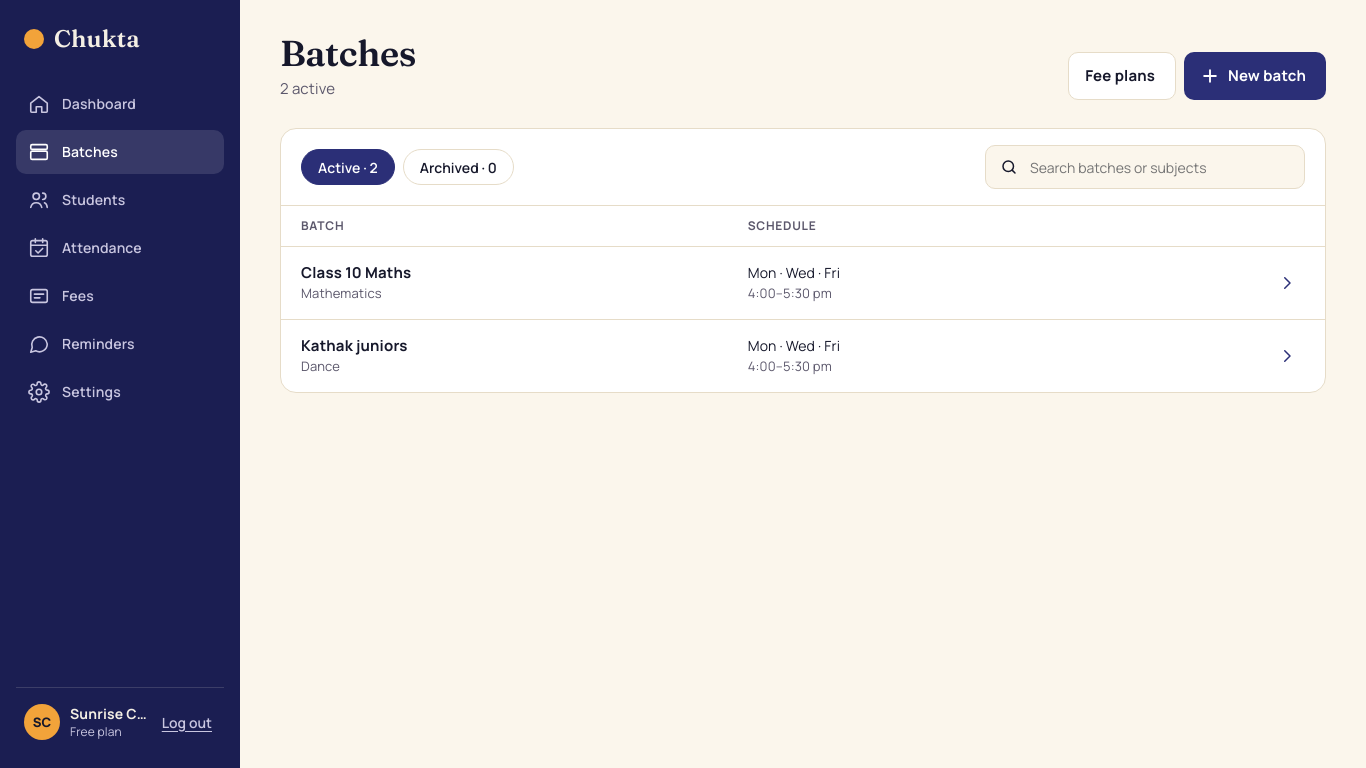
Test: /batches › filters by name or subject as the owner types
Type "dance" into the search field labelled "Search batches" at (1159, 167), box top-left (1028, 156), bottom-right (1290, 178)
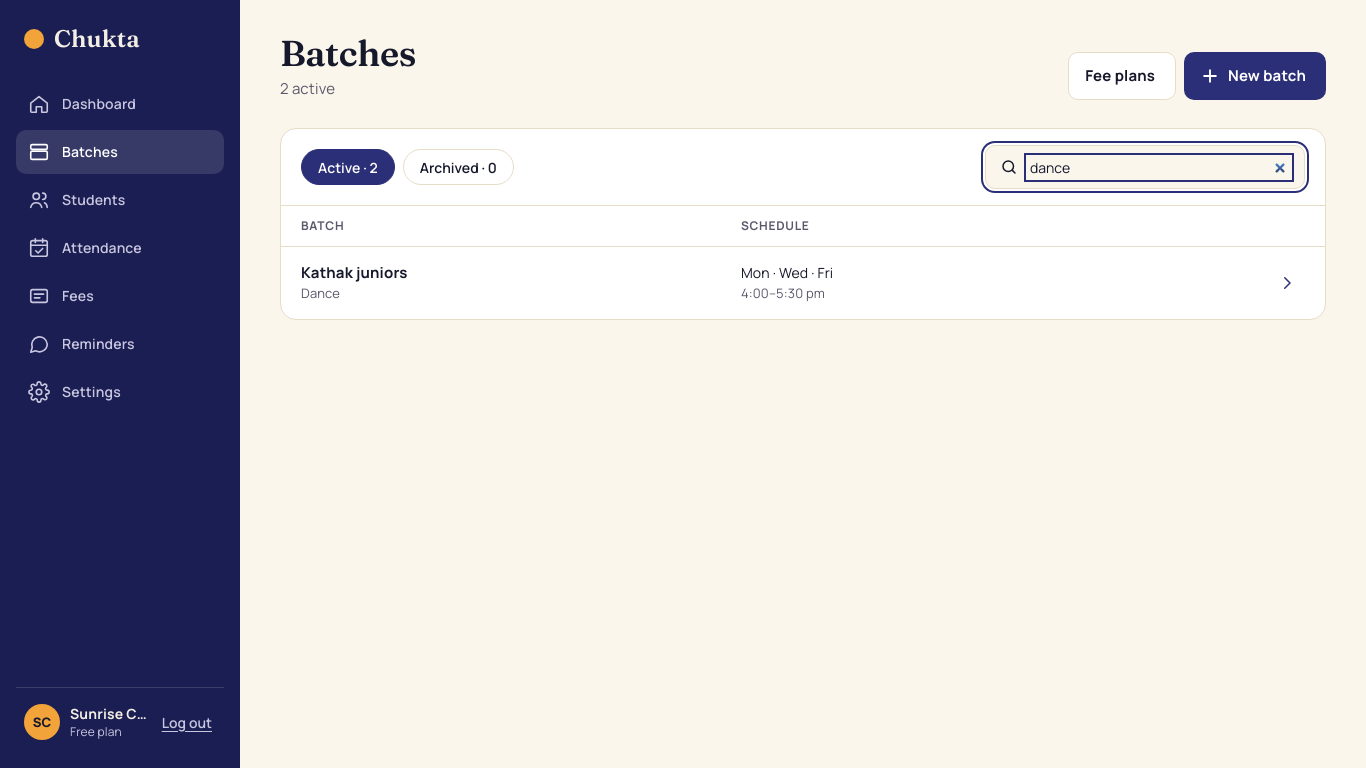
Expected: the link "Kathak juniors" is shown, top-left (301, 262), bottom-right (408, 283)
Result: the link "Class 10 Maths" is gone
